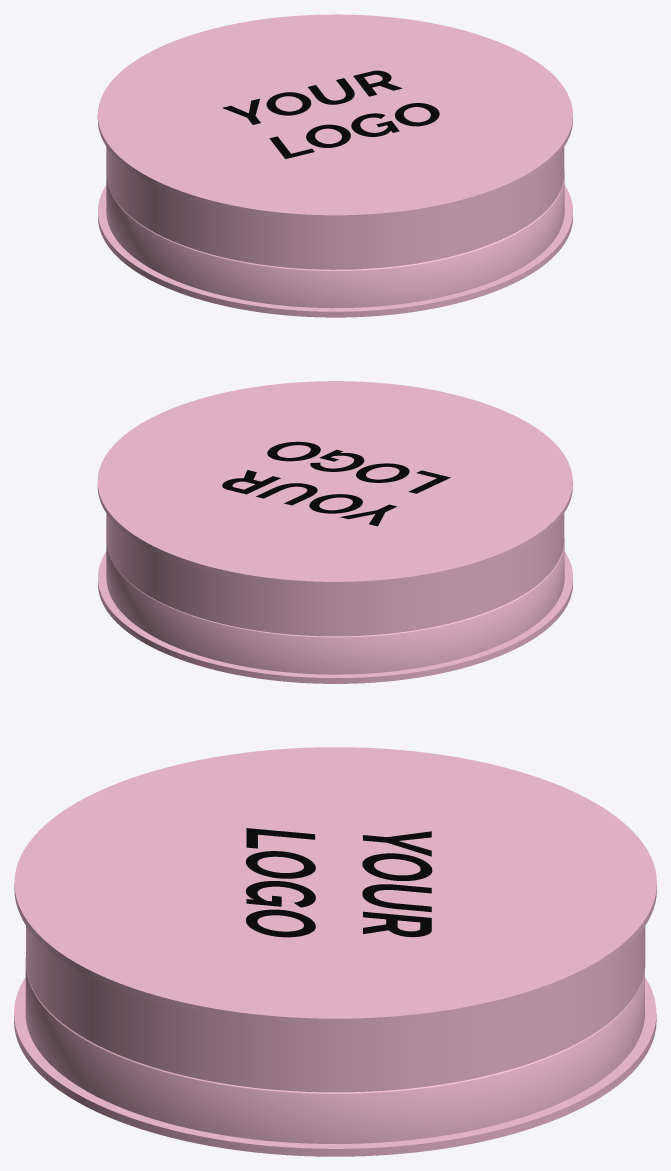
File: Bridal Base 2.gltf
The picture shows the model from 3 angles, top to bottom: view 1: azimuth 30°, elevation 25°; view 2: azimuth 150°, elevation 25°; view 3: azimuth 270°, elevation 25°; orthographic projection. The views are drawn at different scales.
Visible parts, largest first — view 1: Cylinder.009, Cylinder.008, CREAM PUFF-01; view 2: Cylinder.009, Cylinder.008, CREAM PUFF-01; view 3: Cylinder.009, Cylinder.008, CREAM PUFF-01.
Boxes of the visible parts, x1,y1,x2,y2 form: Cylinder.009: (97, 14, 572, 269); Cylinder.008: (98, 172, 572, 317); CREAM PUFF-01: (222, 70, 439, 159); Cylinder.009: (97, 381, 572, 636); Cylinder.008: (98, 538, 572, 683); CREAM PUFF-01: (222, 441, 450, 526); Cylinder.009: (14, 747, 656, 1092); Cylinder.008: (14, 958, 656, 1156); CREAM PUFF-01: (245, 828, 432, 937).
Size of the model in its own units: 0.847 by 0.2014 by 0.8474.
Materials: 4 (3 with a texture image).
